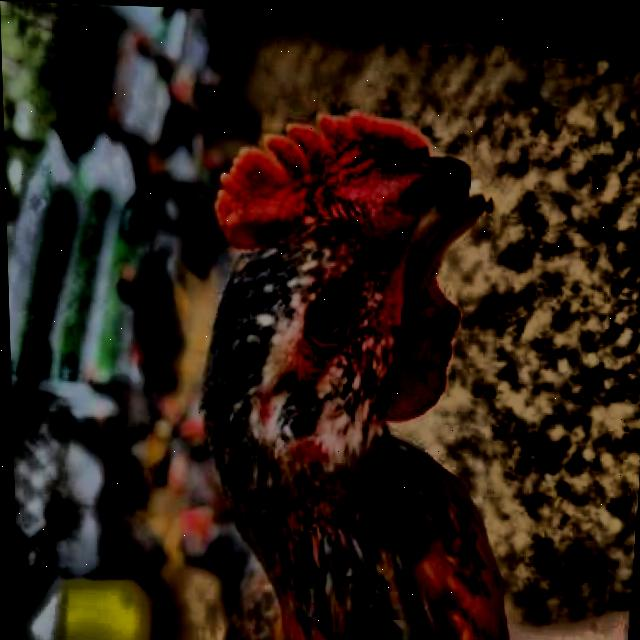Healthy: (296, 262, 377, 362)
